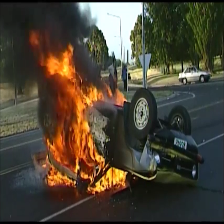fire_h: (31, 30, 108, 181), (88, 167, 128, 194), (46, 169, 76, 186)
fire_l: (115, 88, 127, 106), (42, 153, 54, 168), (105, 82, 112, 97)
